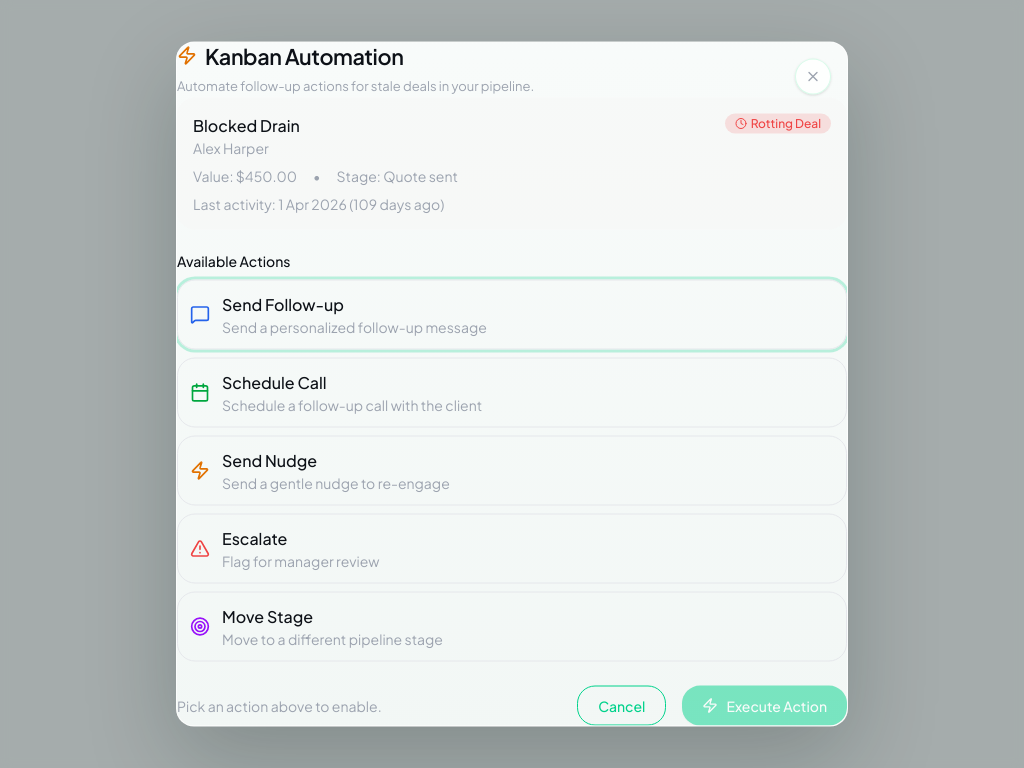
Test: KanbanAutomationModal › shows user-facing CRM stage labels instead of old generic sales pipeline names
This screenshot has width=1024, height=768.
Click the button "Move Stage Move to a different pipeline stage".
click(268, 616)  # box [177,592,847,662]
(page scrolled)
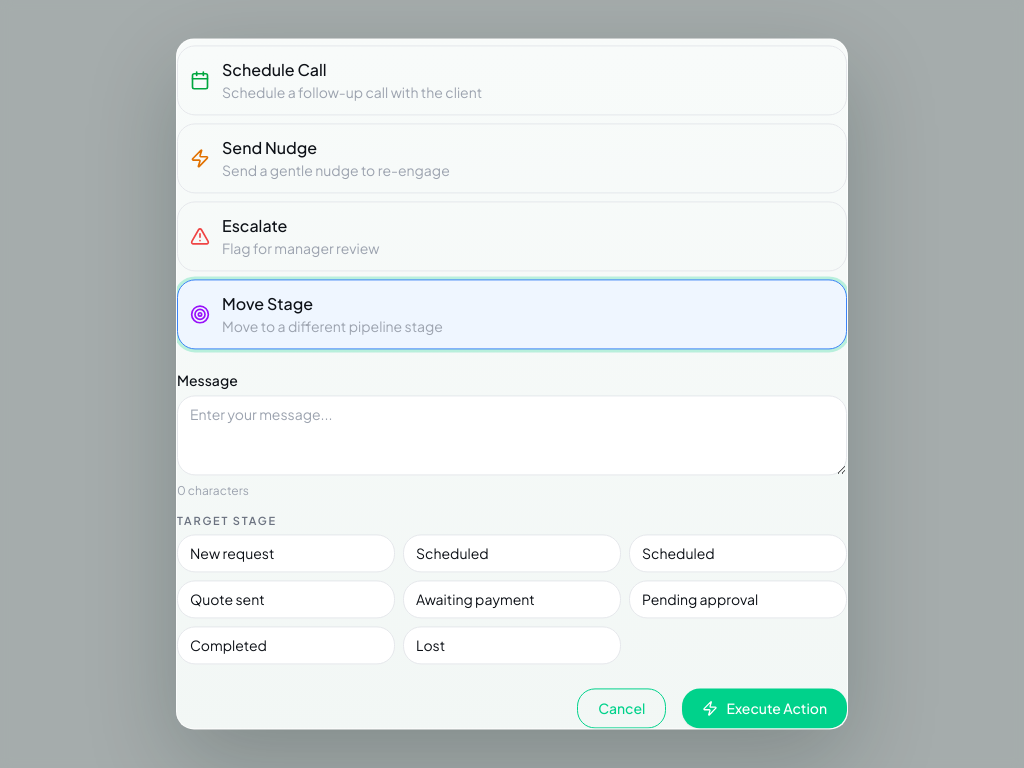
Check: the radio button "New request" is shown, box [177,534,395,572]
Check: the radio button "Completed" is shown, box [177,626,395,664]
